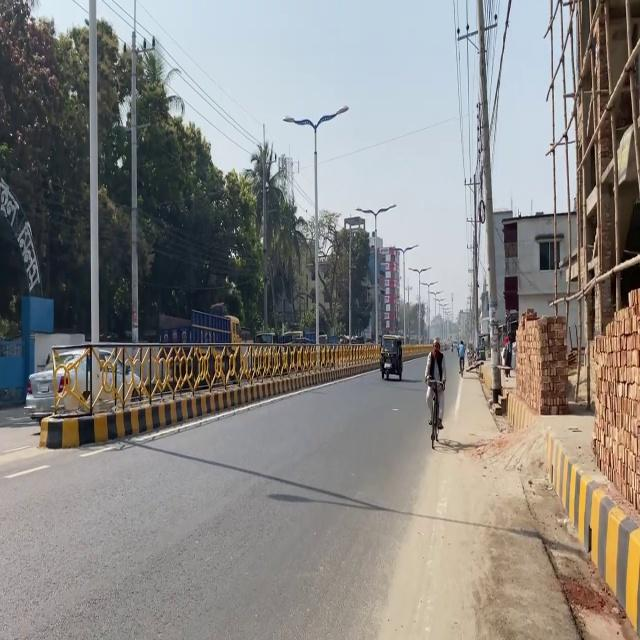Garbage: (502, 306, 580, 436)
Garbage-bin: (424, 340, 446, 429), (457, 340, 466, 373)
Light-pole: (473, 0, 501, 403), (86, 0, 100, 411)
Pole: (38, 342, 434, 449)
Pothole: (433, 347, 640, 640)
Traffic-cone: (378, 334, 403, 380)
